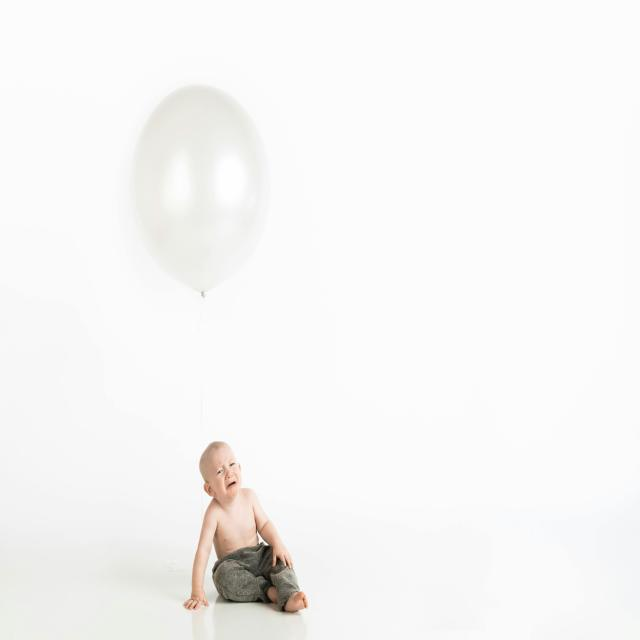sit: (186, 423, 306, 627)
